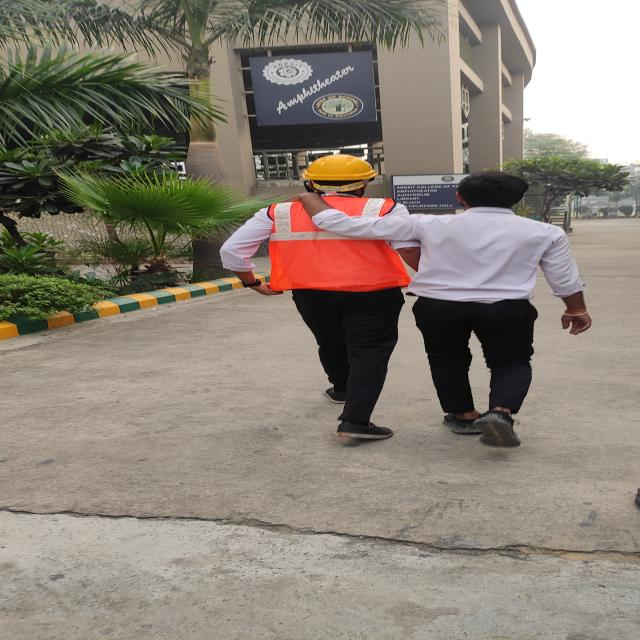safe: (216, 152, 416, 440)
unsafe: (374, 171, 590, 450)
